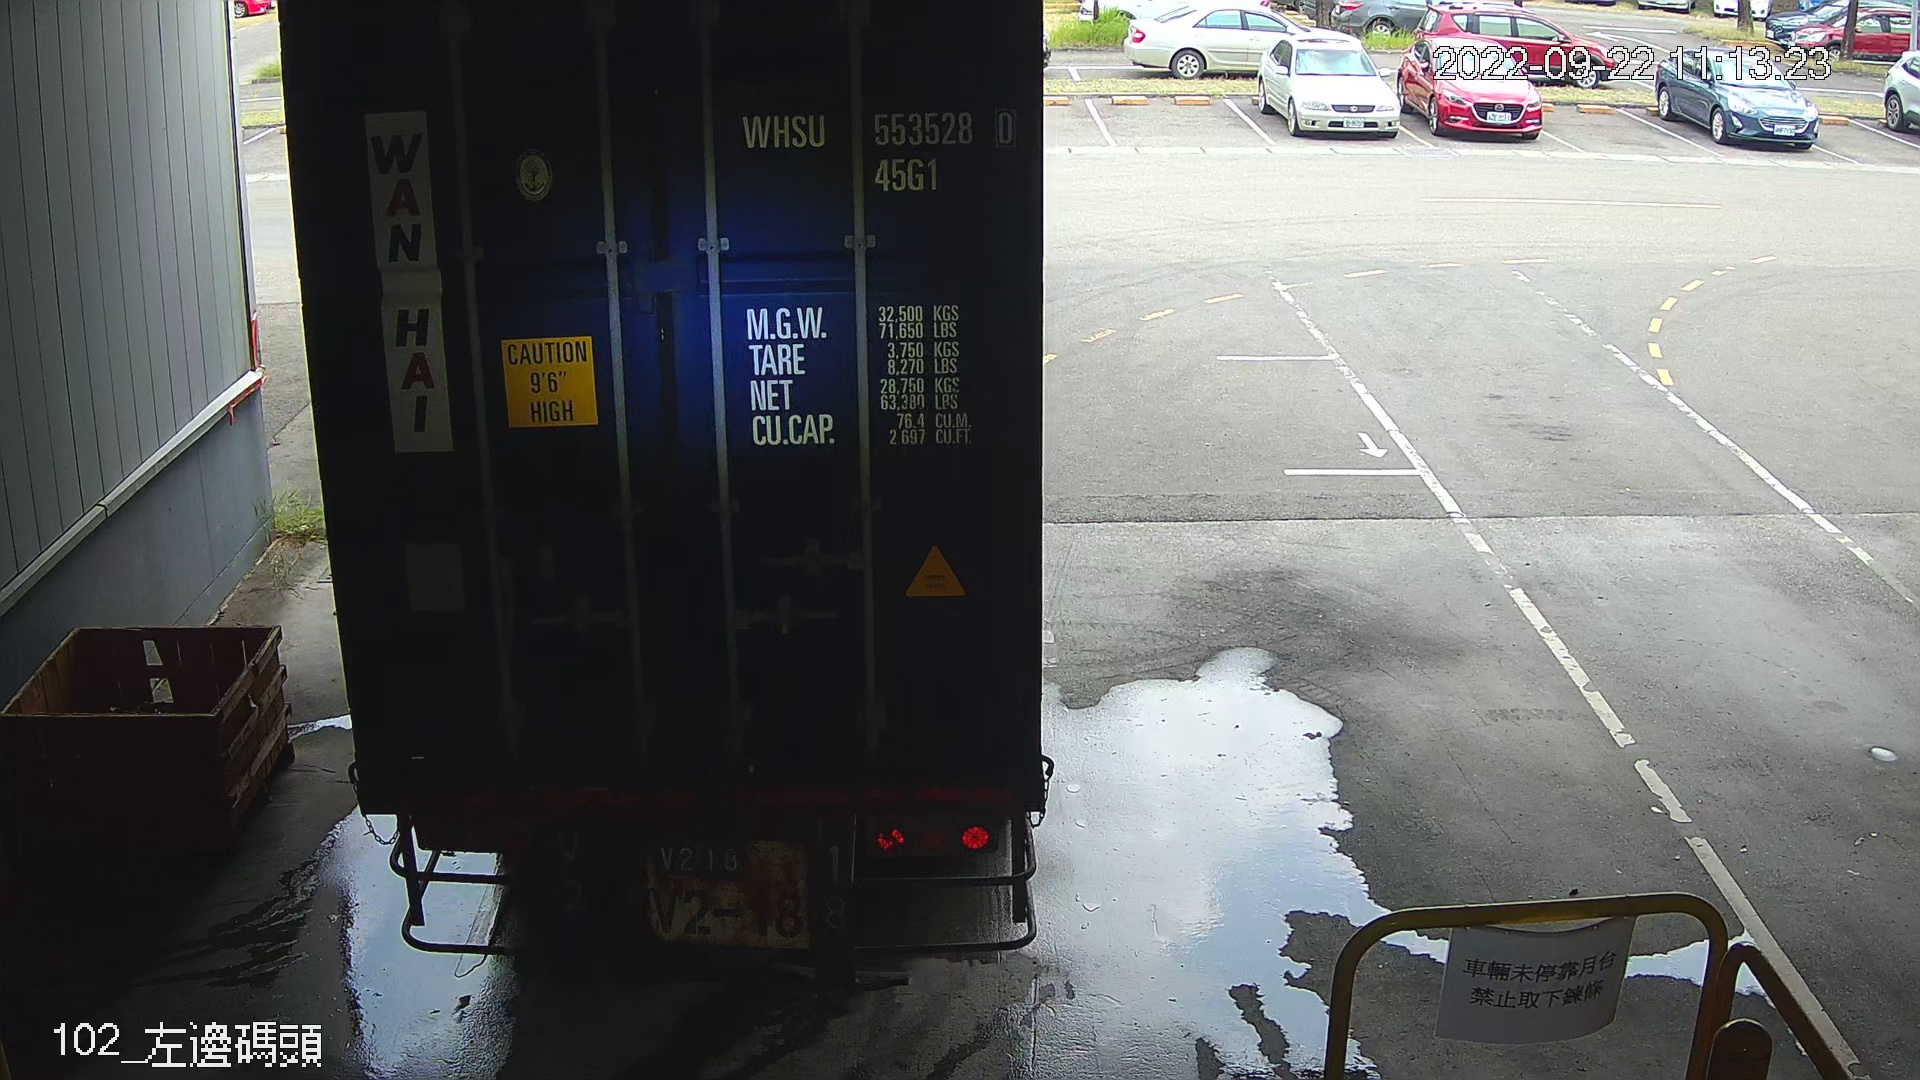container: (728, 102, 1029, 202)
